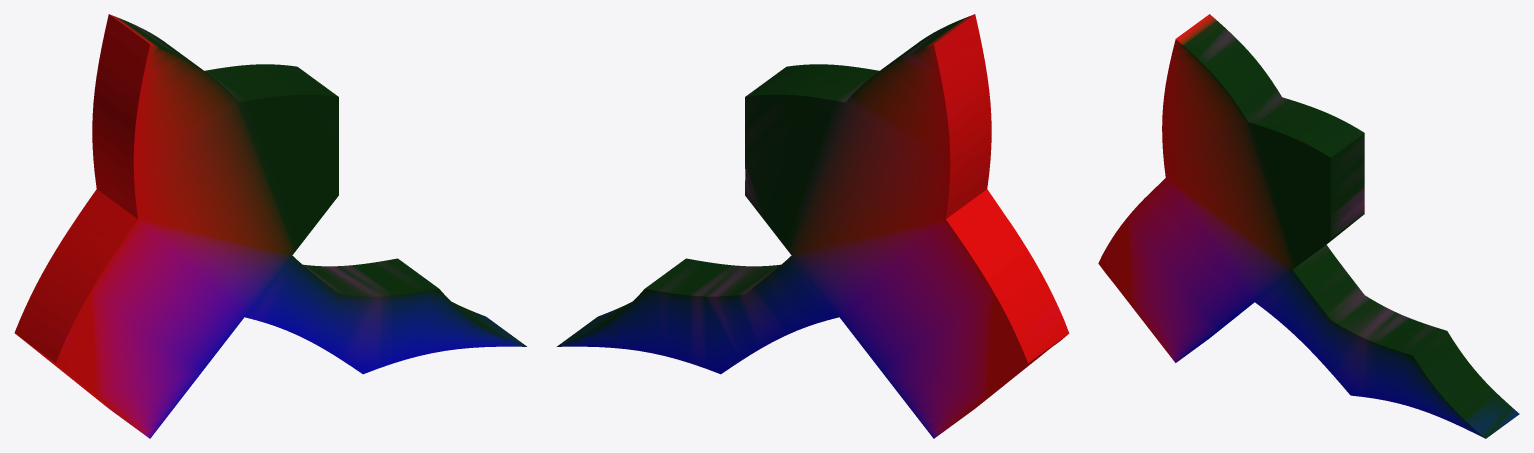
File: fish.glb
3 views of the same model, side by side, from view 1: azimuth 30°, elevation 25°; view 2: azimuth 150°, elevation 25°; view 3: azimuth 330°, elevation 25° (orthographic). The views are drawn at different scales.
Visible parts, largest first — view 1: Fish; view 2: Fish; view 3: Fish.
Boxes of the visible parts, left/top/right/bottom form: Fish: left=14, top=14, right=526, bottom=438; Fish: left=557, top=14, right=1069, bottom=438; Fish: left=1098, top=14, right=1519, bottom=438.
Bounding box in the file's own units: 1.27 × 1.01 × 0.1923.
